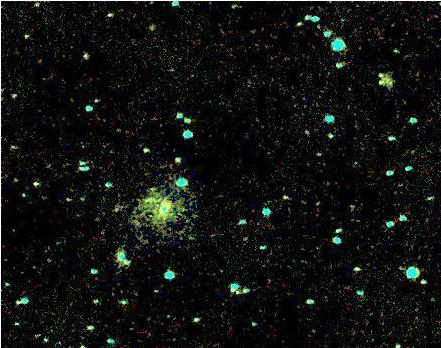star: (131, 182, 161, 212)
